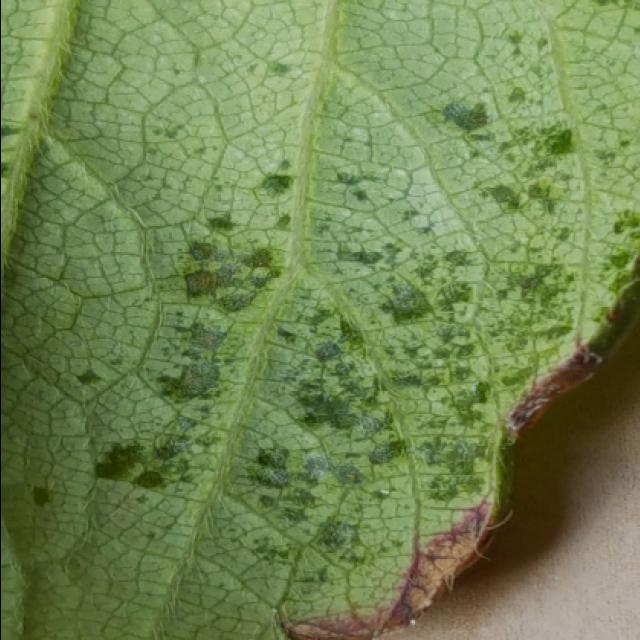Angular Leafspot: (22, 0, 640, 638)
